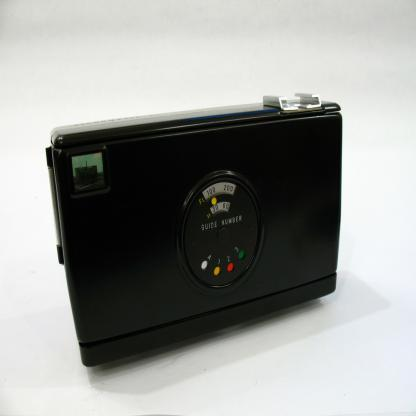Camera: (46, 92, 344, 368)
